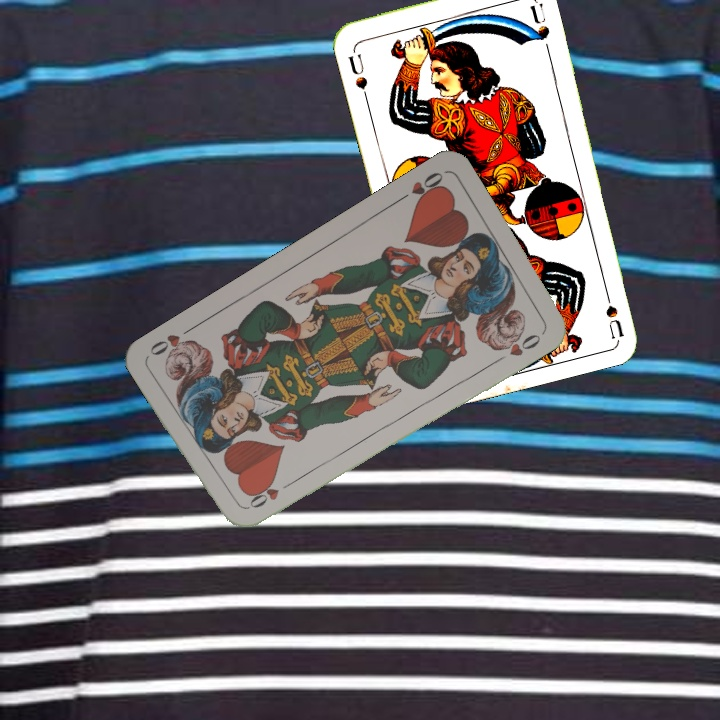HO: (393, 168, 447, 207), (242, 477, 296, 512)
SU: (599, 280, 626, 339), (344, 50, 371, 103)
